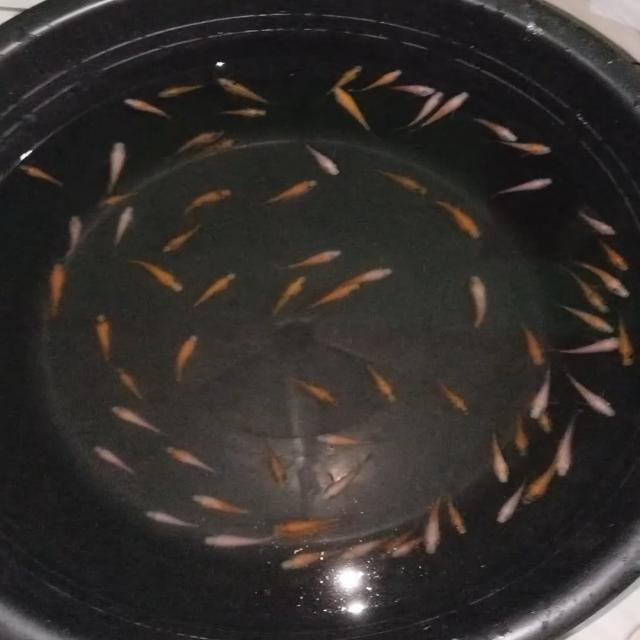nila: (324, 84, 376, 138), (416, 87, 477, 133), (560, 258, 608, 314), (568, 260, 632, 300), (324, 452, 374, 502), (566, 369, 618, 417), (210, 72, 277, 108), (516, 459, 564, 508), (432, 196, 482, 242), (124, 258, 187, 294), (552, 411, 584, 479), (366, 524, 417, 565), (162, 444, 225, 477), (110, 404, 171, 438), (486, 173, 556, 202), (188, 491, 252, 522), (494, 474, 532, 526), (558, 303, 616, 336), (190, 269, 238, 308), (92, 442, 144, 478), (266, 274, 308, 318), (168, 126, 222, 160), (288, 374, 339, 408), (278, 246, 344, 272), (375, 167, 430, 198), (180, 184, 233, 216), (552, 336, 622, 360), (111, 366, 152, 406), (401, 89, 443, 128), (308, 282, 362, 312), (140, 508, 207, 532), (116, 96, 176, 122), (258, 178, 318, 204), (264, 442, 294, 494), (468, 113, 518, 144), (300, 142, 344, 177), (158, 221, 202, 256), (274, 548, 340, 571), (172, 332, 200, 386), (14, 162, 67, 190), (326, 61, 364, 100), (336, 536, 392, 562), (530, 364, 555, 422), (424, 493, 445, 562), (573, 208, 621, 238), (356, 66, 409, 93), (306, 431, 390, 448), (465, 272, 490, 328), (598, 234, 632, 275), (274, 524, 350, 542), (200, 533, 284, 549), (494, 138, 560, 158), (335, 264, 395, 286), (614, 314, 636, 374), (192, 132, 237, 160), (109, 204, 137, 249), (522, 322, 548, 370), (93, 309, 114, 368), (104, 137, 126, 193), (487, 431, 509, 484), (439, 383, 472, 417), (367, 364, 395, 404), (390, 534, 430, 562), (511, 408, 532, 461), (448, 490, 470, 540), (48, 261, 68, 315), (155, 80, 206, 101), (98, 184, 136, 210), (382, 81, 439, 98), (274, 520, 348, 532), (65, 213, 84, 258), (208, 105, 270, 118), (534, 406, 558, 434)
